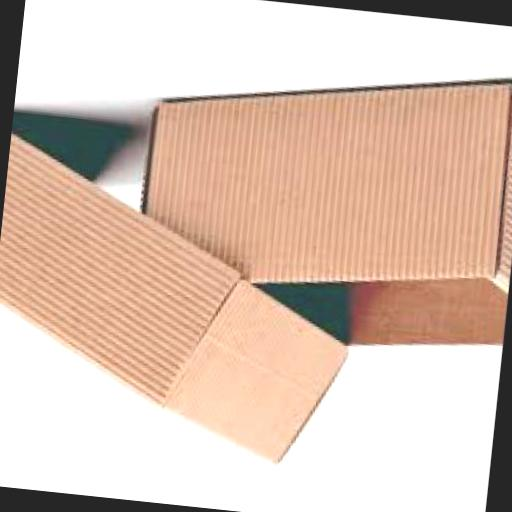cardboard: (0, 133, 371, 474), (131, 40, 512, 363)
